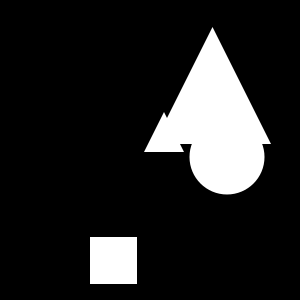circle: (90, 237, 137, 284)
rectangle: (190, 120, 264, 194)
triangle: (154, 27, 271, 144), (171, 57, 247, 133), (144, 112, 184, 152)
